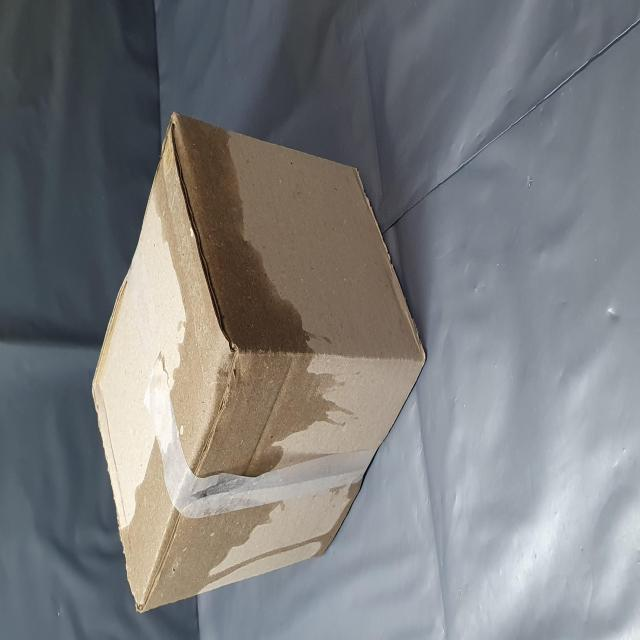wet: (100, 286, 292, 558), (15, 220, 112, 440)
